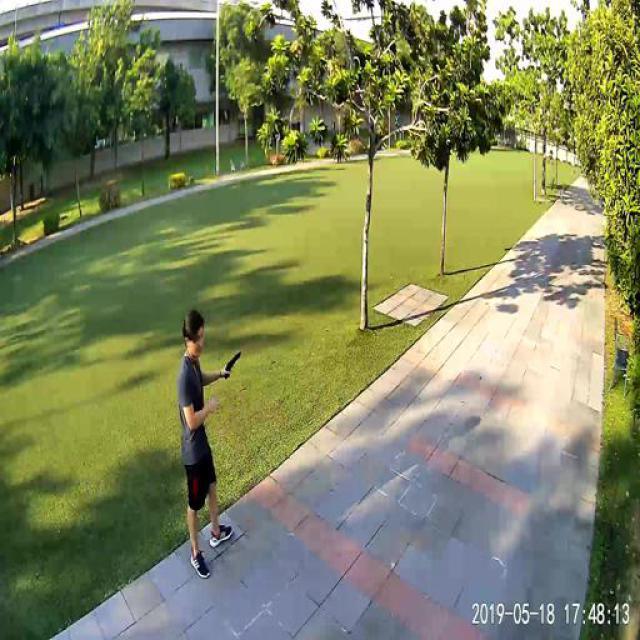Gun: (224, 348, 240, 378)
